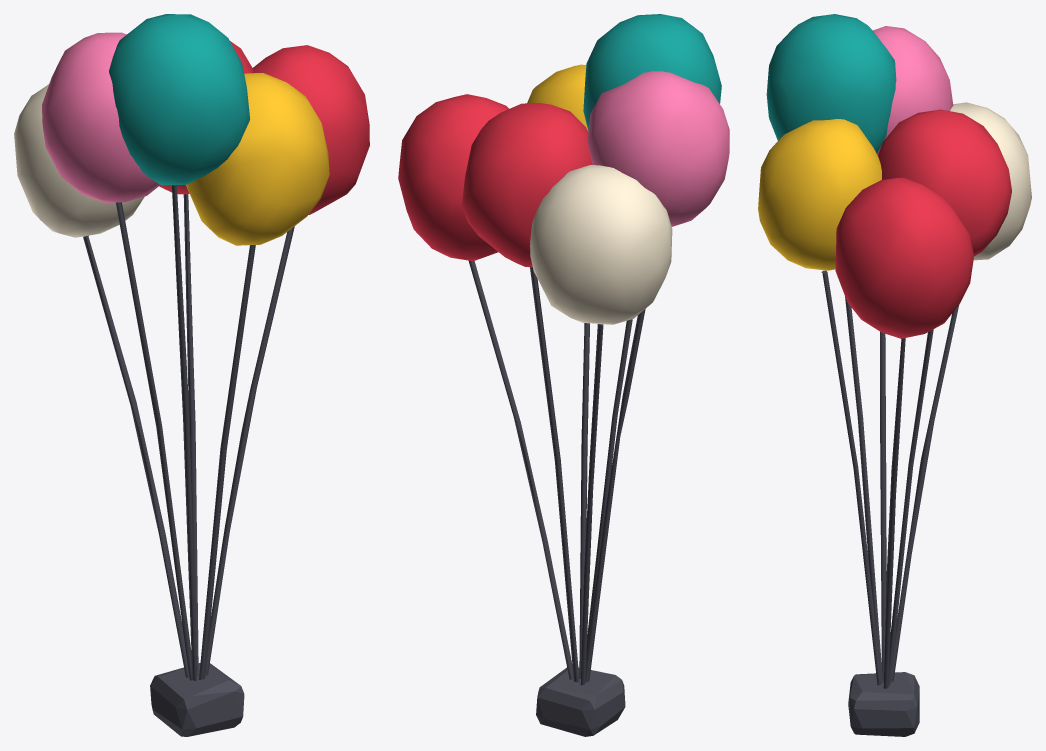
File: balloons.glb
The picture shows the model from 3 angles, left to right: view 1: azimuth 30°, elevation 25°; view 2: azimuth 150°, elevation 25°; view 3: azimuth 270°, elevation 25°; orthographic projection. The views are drawn at different scales.
Visible parts, largest first — view 1: balloons; view 2: balloons; view 3: balloons.
Boxes of the visible parts, x1=… form: balloons: x1=14, y1=14, x2=369, y2=736; balloons: x1=398, y1=14, x2=729, y2=736; balloons: x1=758, y1=14, x2=1031, y2=736.
Bounding box in the file's own units: 2.9 × 6.3 × 2.29.
